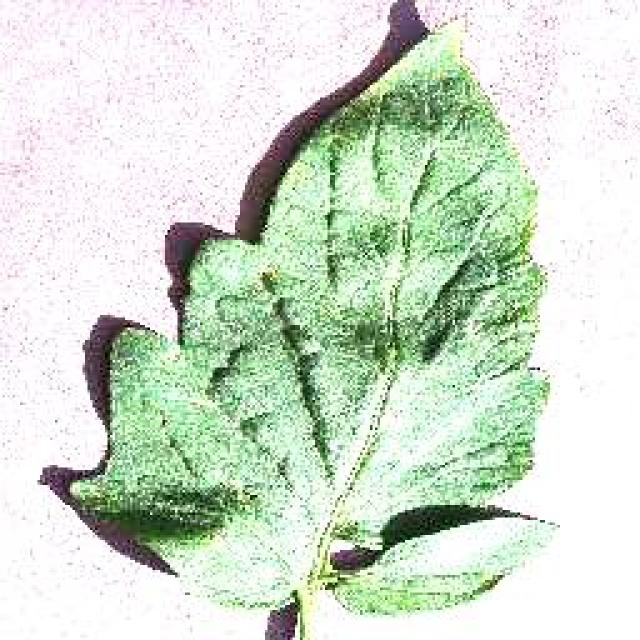Tomato___Target_Spot: (70, 28, 555, 638)
